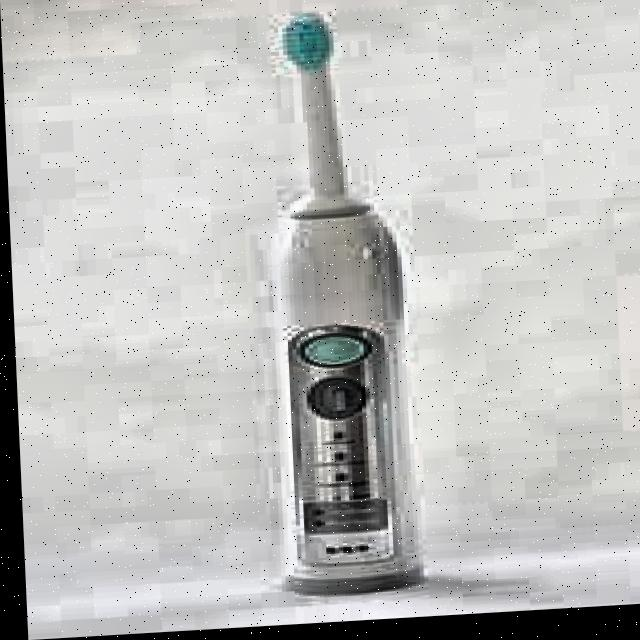trash: (245, 5, 431, 601)
